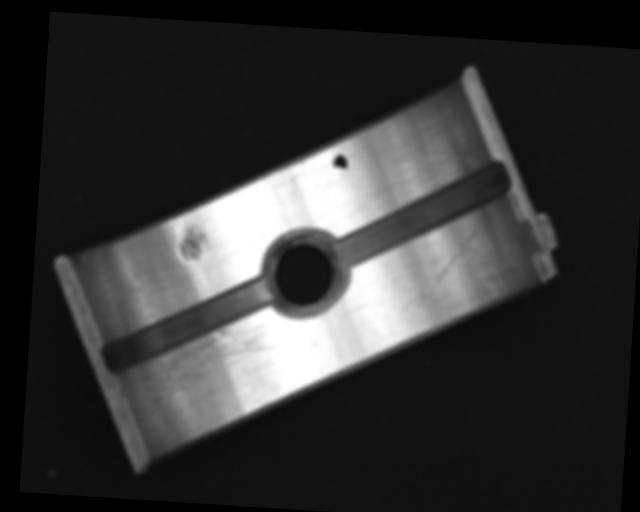blot: (331, 153, 349, 171)
bruise: (178, 227, 210, 262)
gap: (335, 151, 513, 277), (99, 271, 274, 384)
hole: (262, 227, 348, 321)
nick: (401, 220, 482, 317)
scratch: (125, 313, 300, 435)
